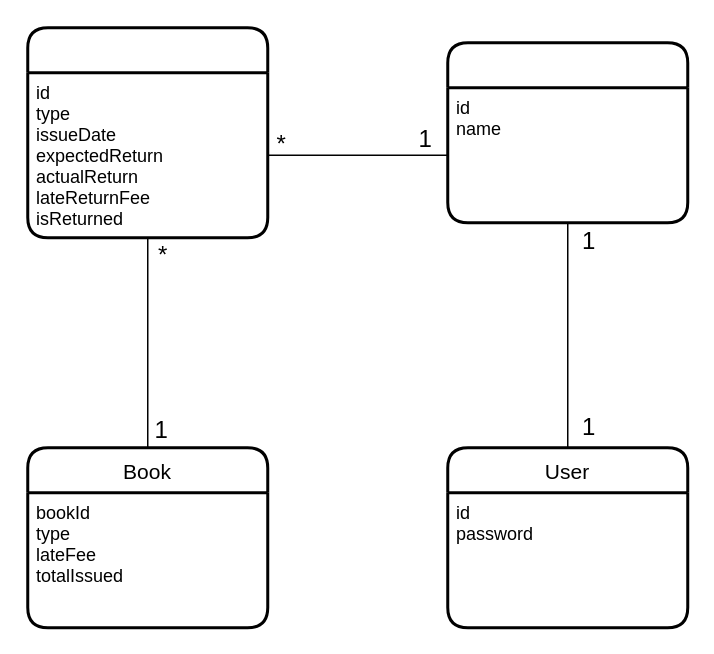
The diagram is 714 pixels wide and 654 high, and some of its shapes have lost their labels. The box of each missing label's shape, as (x1, y1, x2, y2) in pixels:
Employee: (446, 40, 688, 224)
IssuedBook: (26, 26, 268, 238)
